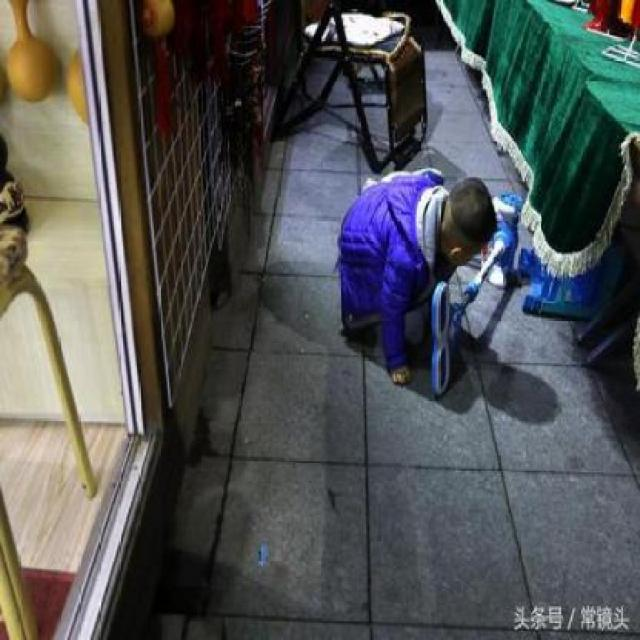fall: (327, 153, 496, 398)
